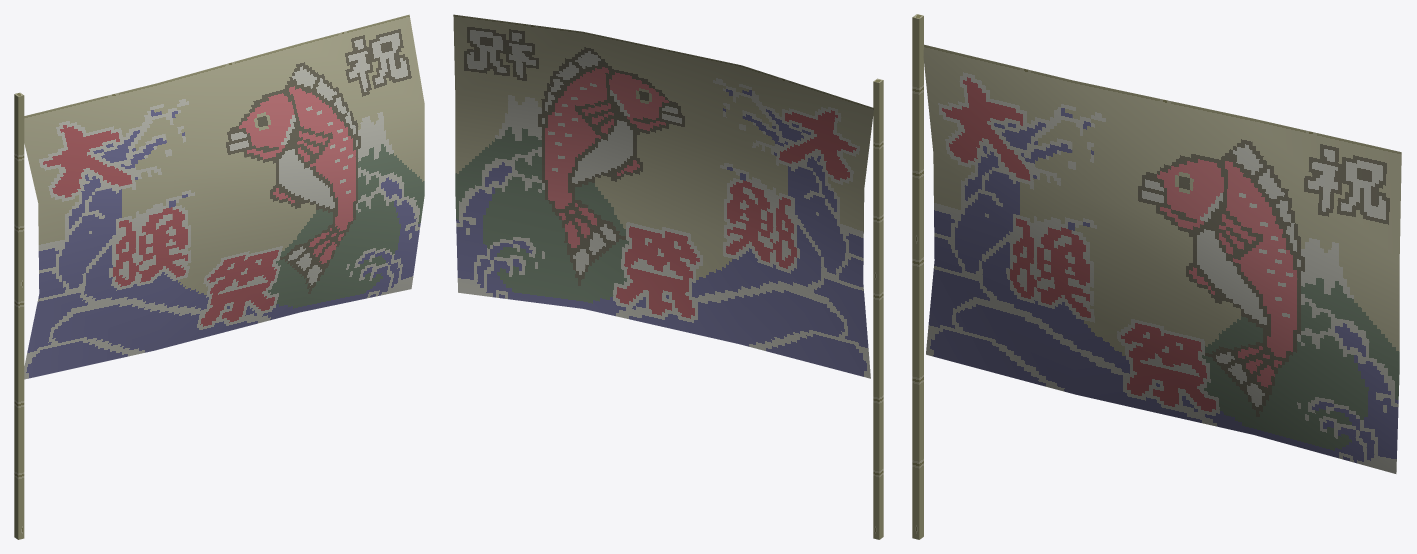
Rendered from 028c_Rich_Haul_Flag_1.glb.
3 renders of one model, left to right at view 1: azimuth 30°, elevation 25°; view 2: azimuth 150°, elevation 25°; view 3: azimuth 330°, elevation 25°, orthographic. The views are drawn at different scales.
Visible parts, largest first — view 1: part_0; view 2: part_0; view 3: part_0.
Boxes of the visible parts, <box> form: part_0: <box>14,14,424,539</box>; part_0: <box>453,14,883,539</box>; part_0: <box>912,14,1401,539</box>.
Bounding box in the file's own units: 5.41 × 5.58 × 0.5181.
Materials: 1 (1 with a texture image).
